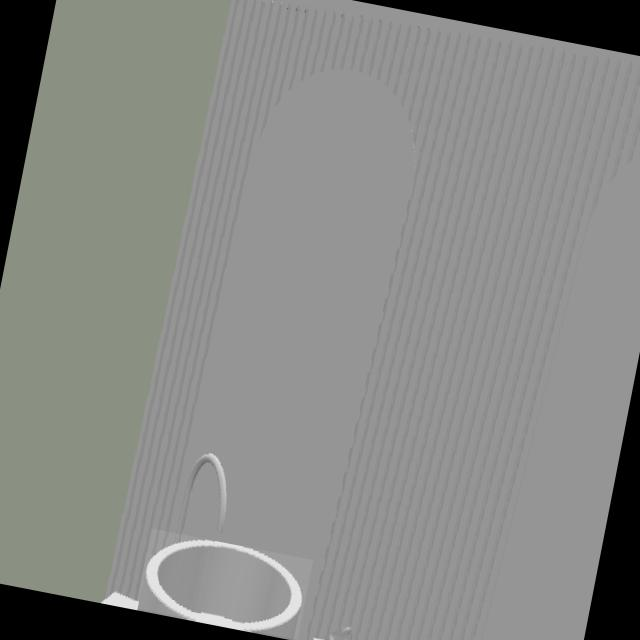washbasin: (141, 540, 305, 640)
